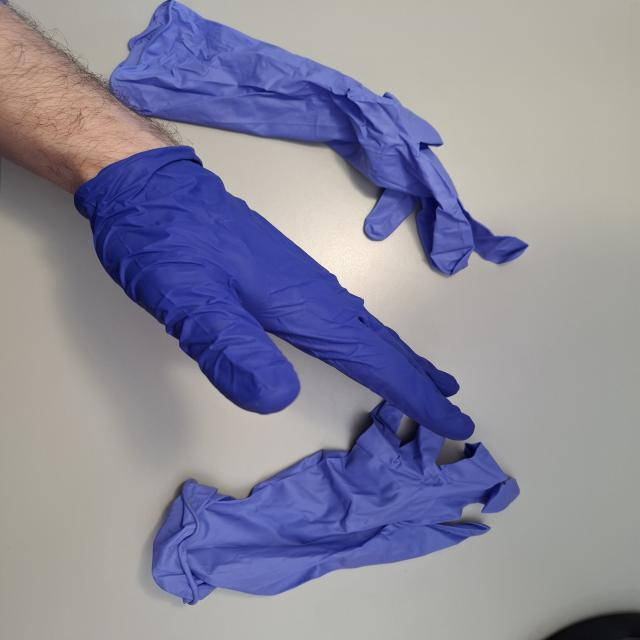glove_on: (70, 142, 480, 444)
